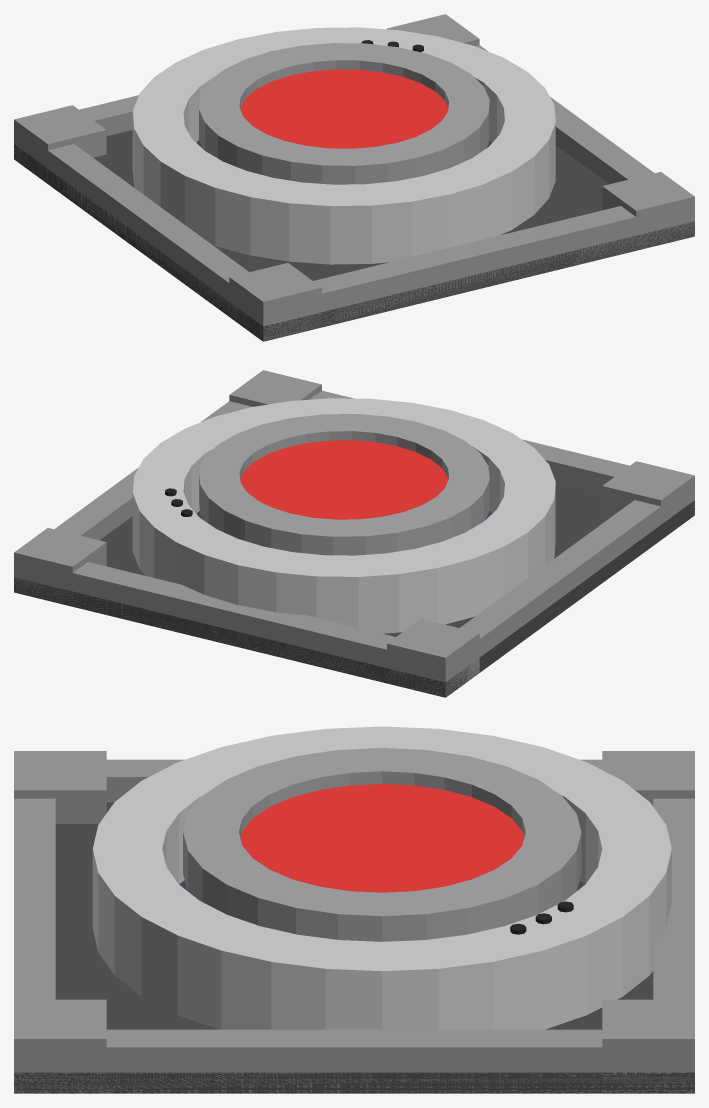
The model's file is vge_e_grav_engine.obj.
3 renders of one model, top to bottom at view 1: azimuth 30°, elevation 25°; view 2: azimuth 150°, elevation 25°; view 3: azimuth 270°, elevation 25°, orthographic. The views are drawn at different scales.
Parts seen in each view (by area): view 1: vge_grav_engine_10, vge_grav_engine_11, vge_grav_engine_1, vge_grav_engine_0, vge_grav_engine_12, vge_grav_engine_3, vge_grav_engine_5, vge_grav_engine_6, vge_grav_engine_4, vge_grav_engine_7, vge_grav_engine_2, vge_grav_engine_8; view 2: vge_grav_engine_10, vge_grav_engine_11, vge_grav_engine_2, vge_grav_engine_0, vge_grav_engine_12, vge_grav_engine_3, vge_grav_engine_6, vge_grav_engine_5, vge_grav_engine_8, vge_grav_engine_4, vge_grav_engine_1, vge_grav_engine_7; view 3: vge_grav_engine_10, vge_grav_engine_11, vge_grav_engine_4, vge_grav_engine_0, vge_grav_engine_12, vge_grav_engine_1, vge_grav_engine_2, vge_grav_engine_5, vge_grav_engine_8, vge_grav_engine_7, vge_grav_engine_6, vge_grav_engine_3.
Boxes of the visible parts, x1=… form: vge_grav_engine_10: x1=132, y1=27, x2=555, y2=264; vge_grav_engine_11: x1=199, y1=43, x2=489, y2=184; vge_grav_engine_1: x1=248, y1=203, x2=694, y2=341; vge_grav_engine_0: x1=14, y1=130, x2=694, y2=341; vge_grav_engine_12: x1=240, y1=69, x2=448, y2=148; vge_grav_engine_3: x1=29, y1=137, x2=248, y2=329; vge_grav_engine_5: x1=229, y1=263, x2=321, y2=341; vge_grav_engine_6: x1=14, y1=105, x2=106, y2=181; vge_grav_engine_4: x1=475, y1=45, x2=654, y2=184; vge_grav_engine_7: x1=602, y1=172, x2=694, y2=247; vge_grav_engine_2: x1=14, y1=95, x2=138, y2=165; vge_grav_engine_8: x1=387, y1=14, x2=479, y2=45; vge_grav_engine_10: x1=132, y1=398, x2=555, y2=633; vge_grav_engine_11: x1=199, y1=414, x2=489, y2=555; vge_grav_engine_2: x1=14, y1=559, x2=460, y2=697; vge_grav_engine_0: x1=14, y1=481, x2=694, y2=697; vge_grav_engine_12: x1=240, y1=440, x2=448, y2=519; vge_grav_engine_3: x1=460, y1=500, x2=662, y2=668; vge_grav_engine_6: x1=387, y1=619, x2=479, y2=696; vge_grav_engine_5: x1=602, y1=461, x2=694, y2=524; vge_grav_engine_8: x1=14, y1=528, x2=106, y2=602; vge_grav_engine_4: x1=54, y1=401, x2=252, y2=540; vge_grav_engine_1: x1=310, y1=390, x2=694, y2=509; vge_grav_engine_7: x1=229, y1=370, x2=321, y2=406; vge_grav_engine_10: x1=92, y1=726, x2=671, y2=1029; vge_grav_engine_11: x1=183, y1=748, x2=581, y2=941; vge_grav_engine_4: x1=55, y1=1029, x2=653, y2=1093; vge_grav_engine_0: x1=14, y1=802, x2=694, y2=1093; vge_grav_engine_12: x1=240, y1=784, x2=524, y2=892; vge_grav_engine_1: x1=14, y1=798, x2=55, y2=1093; vge_grav_engine_2: x1=653, y1=798, x2=694, y2=1093; vge_grav_engine_5: x1=14, y1=751, x2=106, y2=823; vge_grav_engine_8: x1=602, y1=999, x2=694, y2=1092; vge_grav_engine_7: x1=14, y1=999, x2=106, y2=1092; vge_grav_engine_6: x1=602, y1=751, x2=694, y2=806; vge_grav_engine_3: x1=106, y1=759, x2=602, y2=802.
Size of the model in its own units: 2.94 by 0.56 by 2.94.
